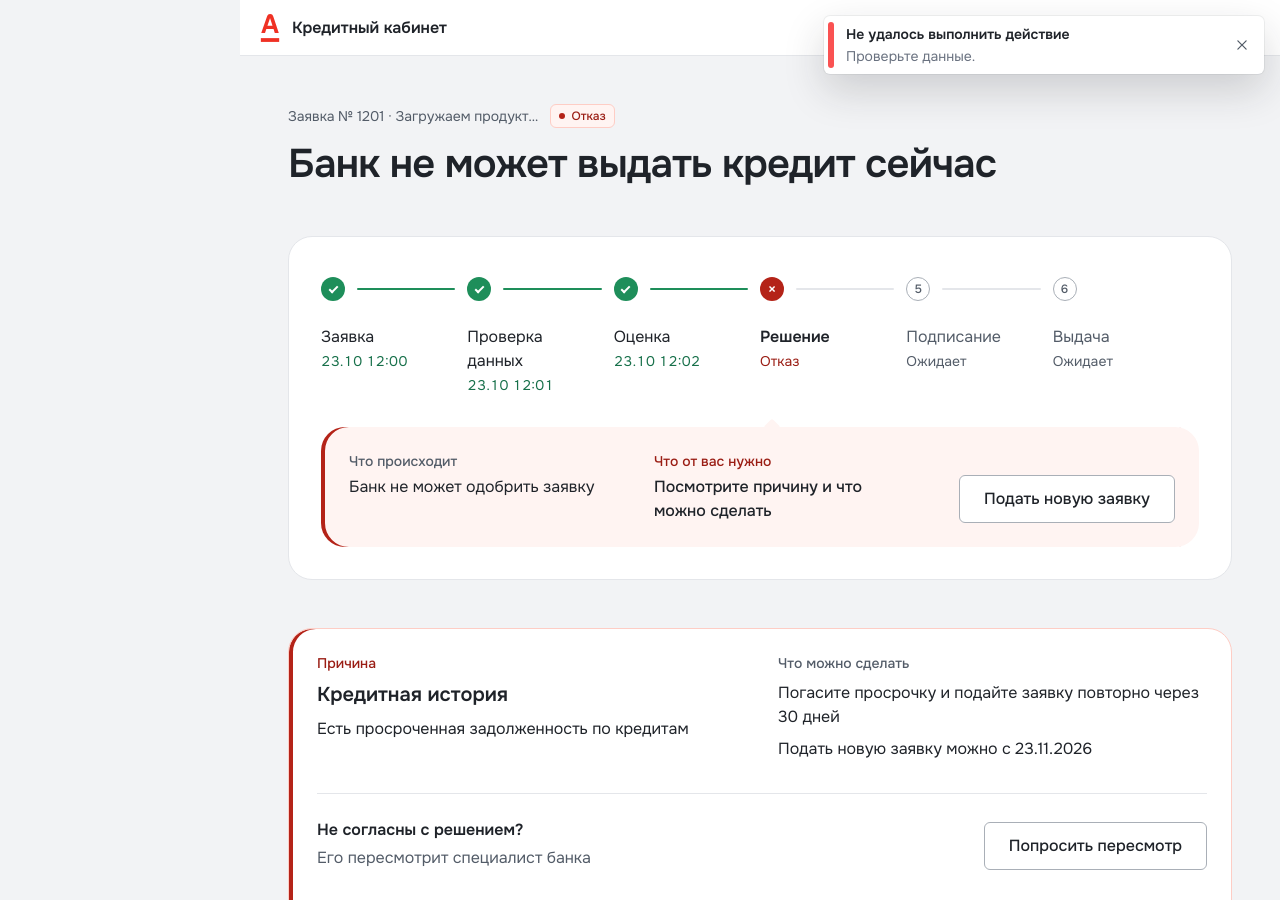
Test: ошибка пересмотра 501 видна внутри диалога и сохраняет текст обращения
Click the button "Попросить пересмотр": (1095, 846) [984,822,1207,870]
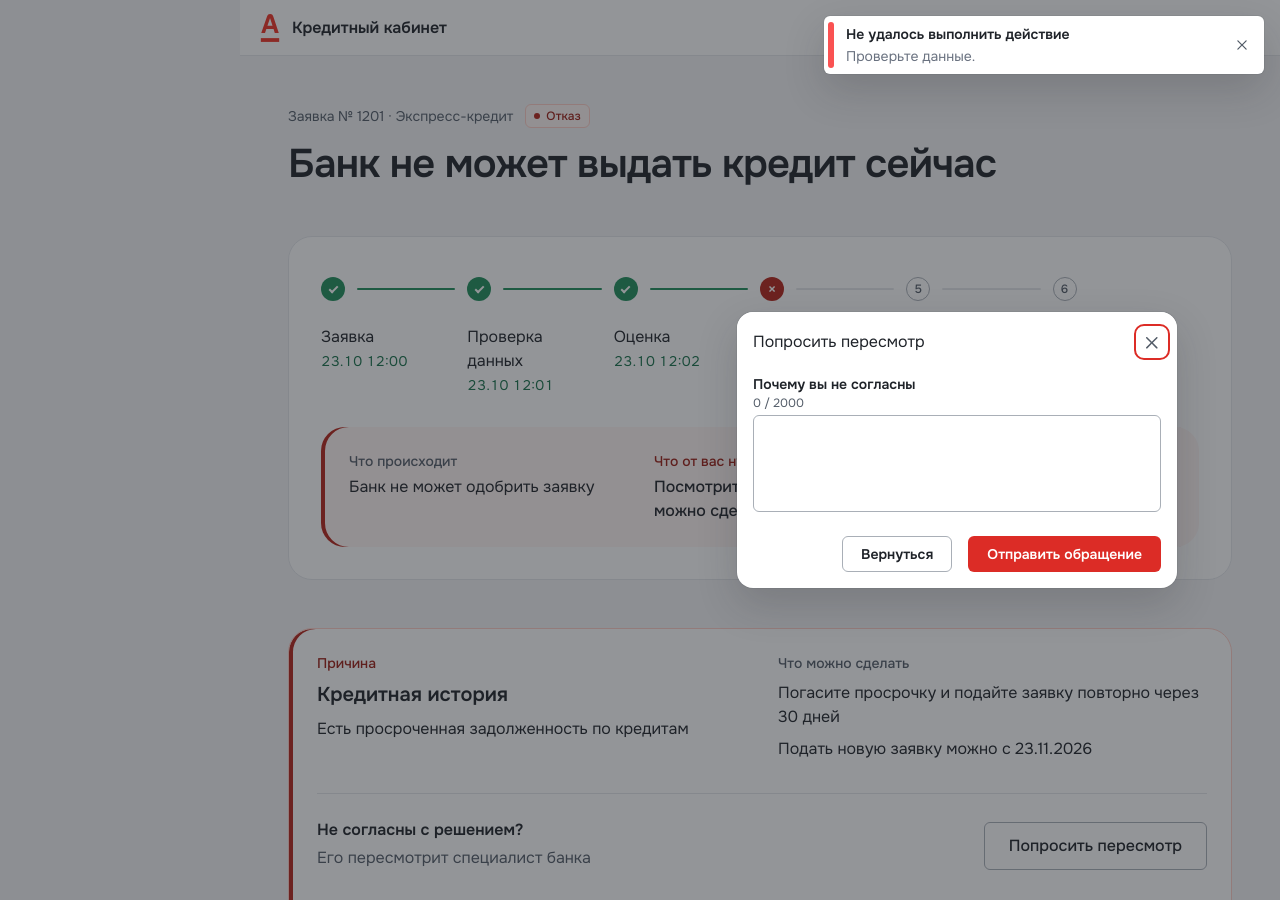
In the text box labelled "Почему вы не согласны": (957, 463) [753,415,1161,512], type "Просрочка уже погашена"
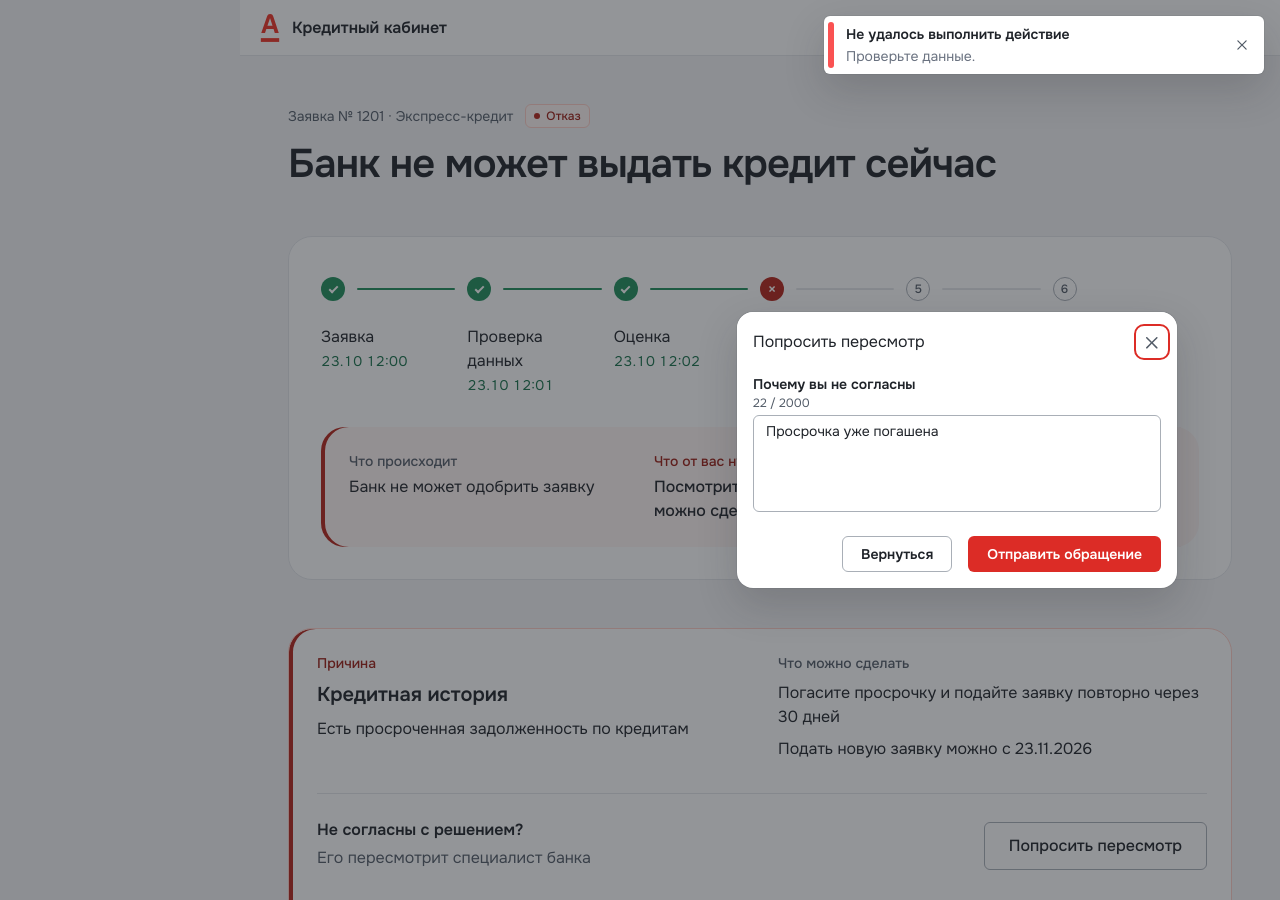
Click the button "Отправить обращение": (1065, 554) [968,536,1161,572]
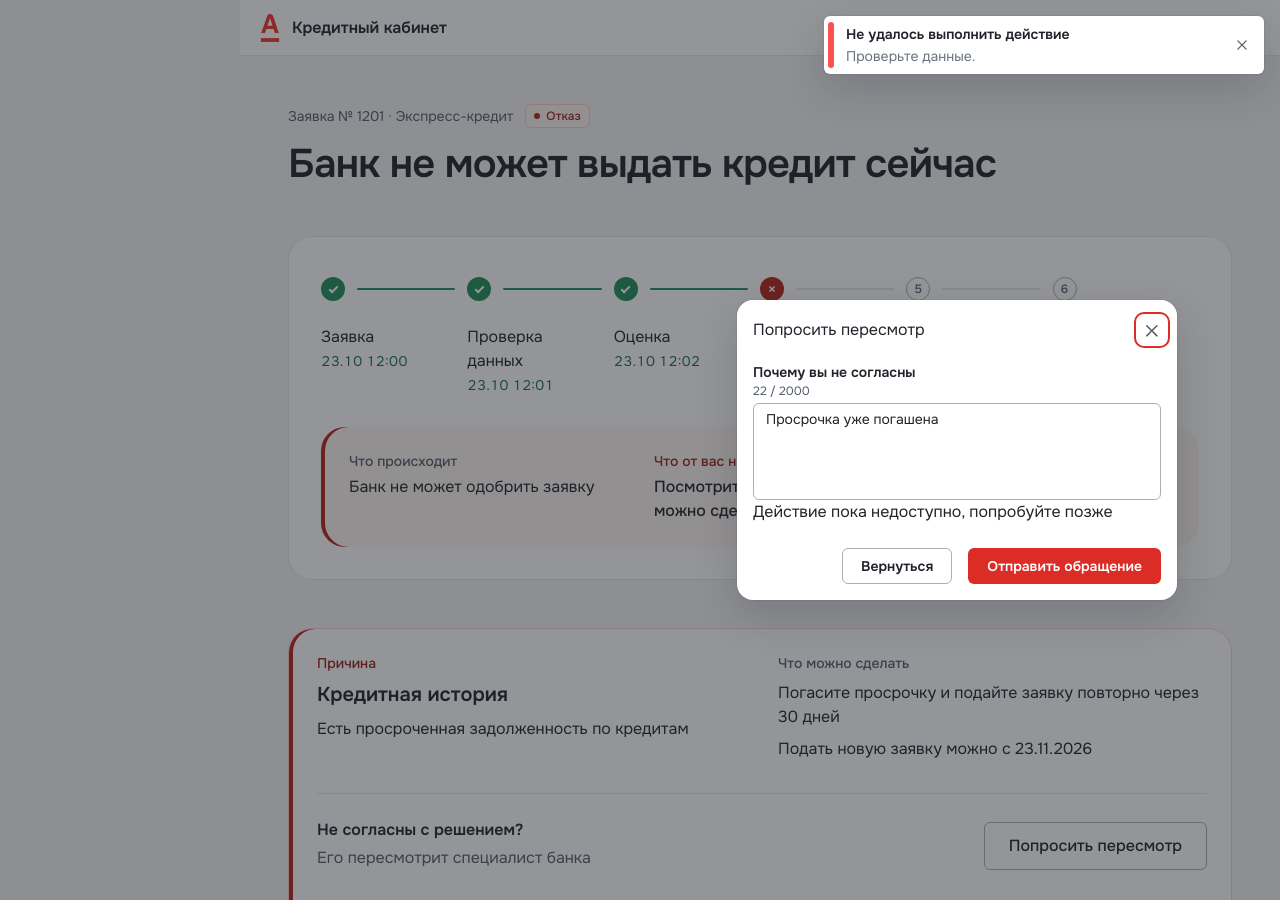
Expected: the text "Действие пока недоступно, попробуйте позже" is shown, [753,500,1161,524]
